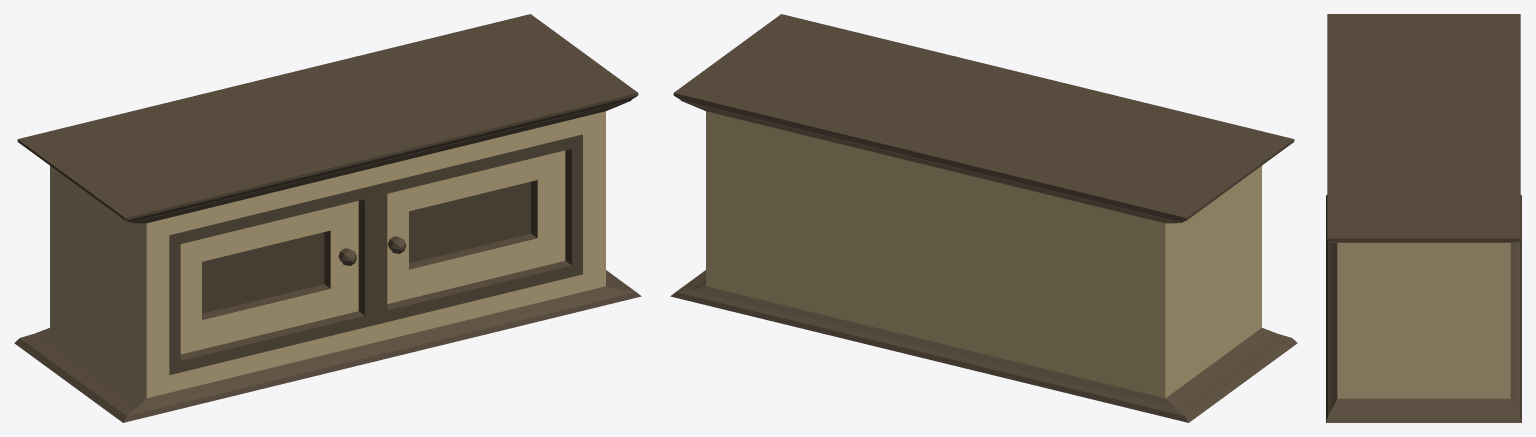
Rendered from Cupboard.fbx.
The picture shows the model from 3 angles, left to right: view 1: azimuth 30°, elevation 25°; view 2: azimuth 150°, elevation 25°; view 3: azimuth 270°, elevation 25°; orthographic projection. The views are drawn at different scales.
Visible parts, largest first — view 1: Cube; view 2: Cube; view 3: Cube.
Boxes of the visible parts, x1=… form: Cube: x1=14, y1=14, x2=641, y2=422; Cube: x1=670, y1=14, x2=1297, y2=422; Cube: x1=1326, y1=14, x2=1521, y2=422.
Size of the model in its own units: 930 by 349 by 339.
